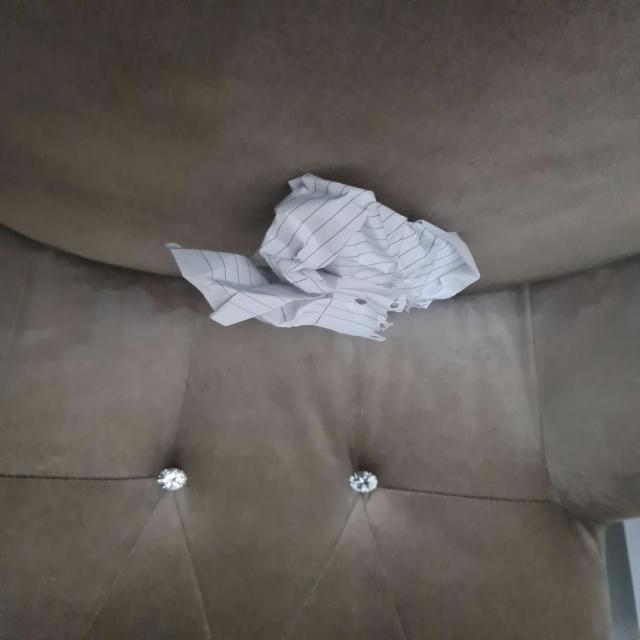Paper: (166, 183, 486, 348)
